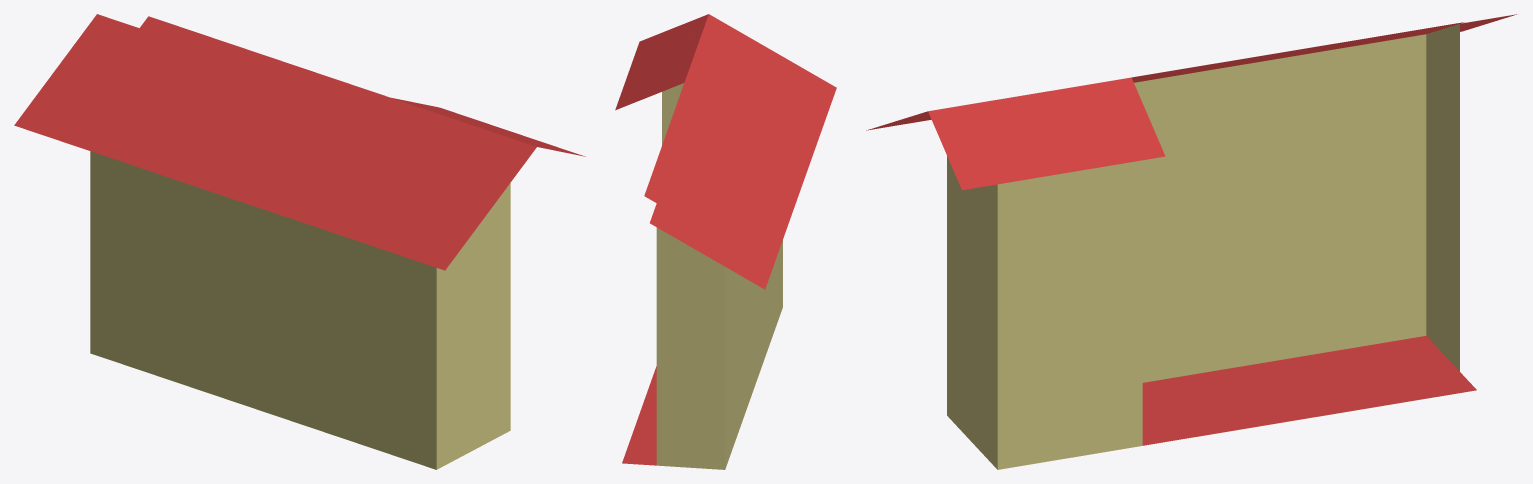
3 renders of one model, left to right at view 1: azimuth 30°, elevation 25°; view 2: azimuth 150°, elevation 25°; view 3: azimuth 270°, elevation 25°, orthographic. The views are drawn at different scales.
Bounding box in the file's own units: 11.44 × 15.54 × 9.35.
